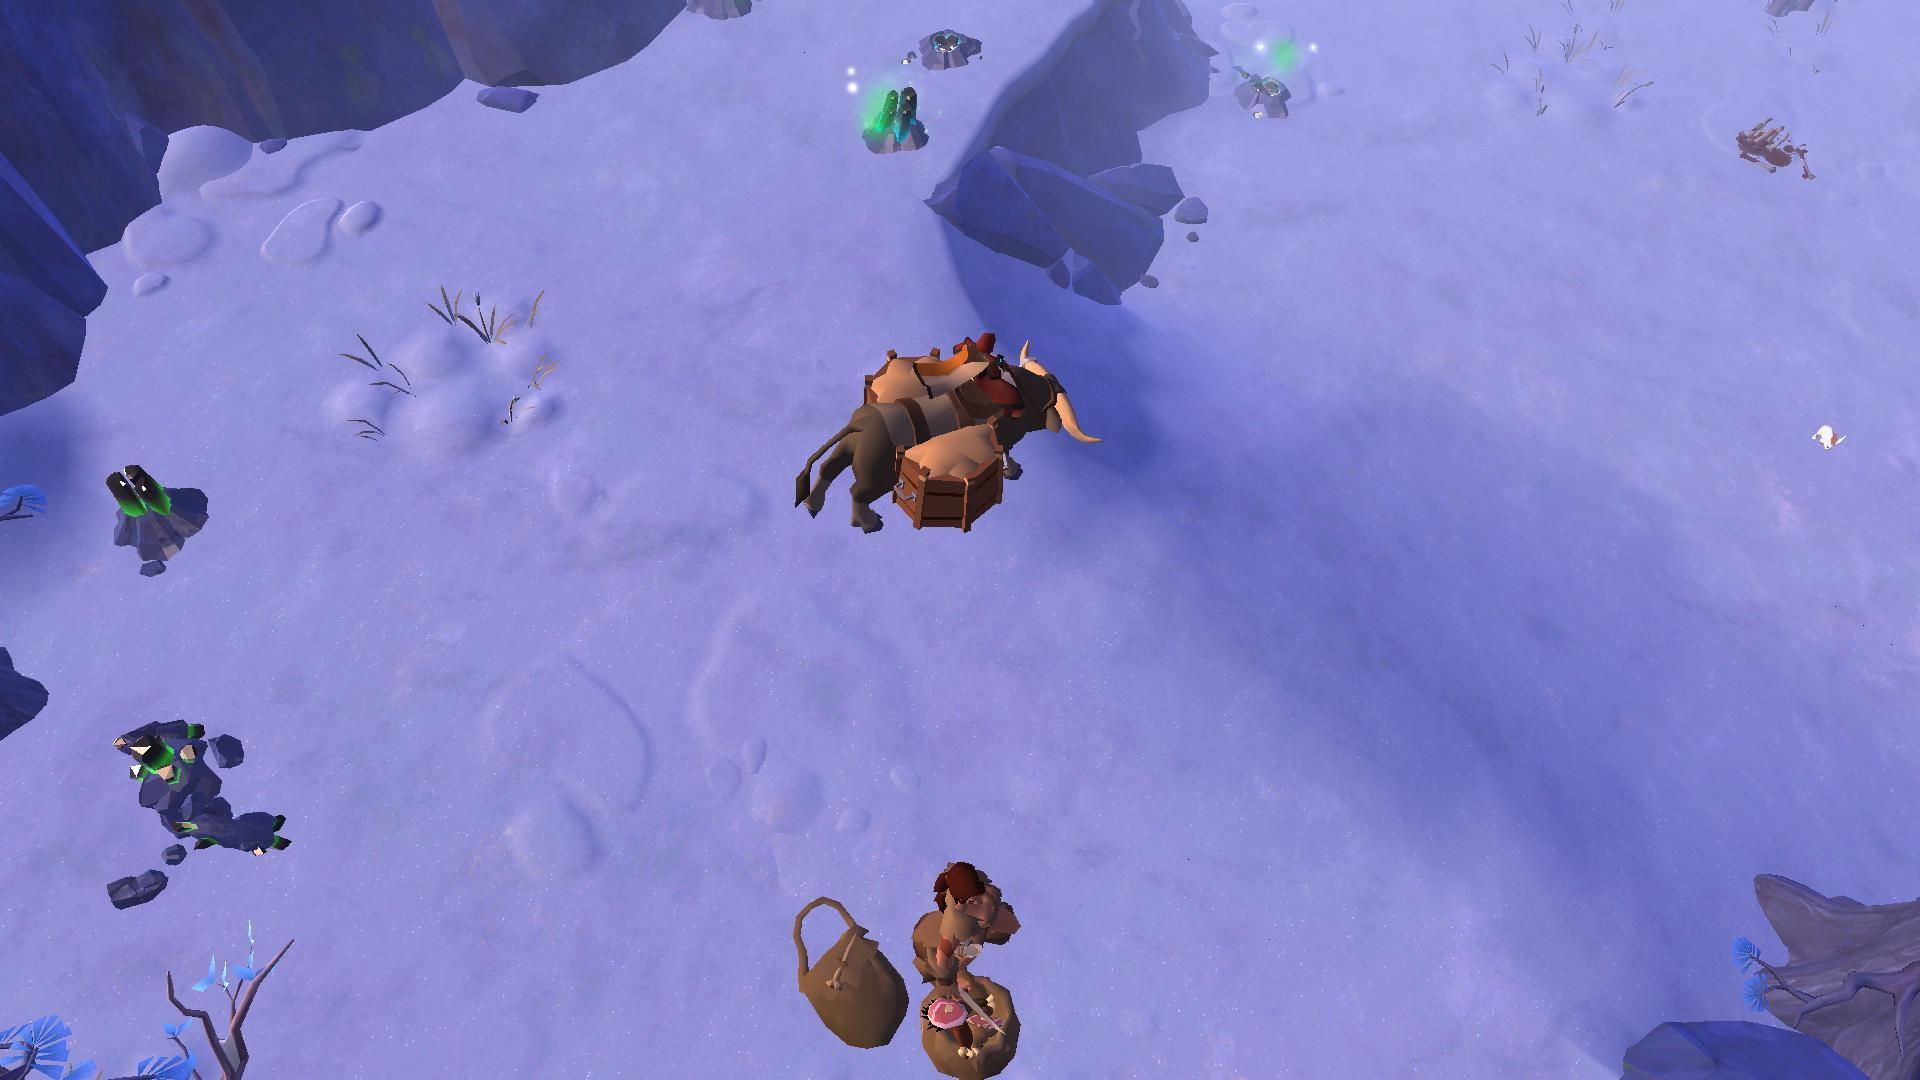enemy_factionKeeper: (903, 858, 1017, 997)
ore_t3: (103, 462, 169, 522)
ore_t4: (866, 76, 924, 140)
